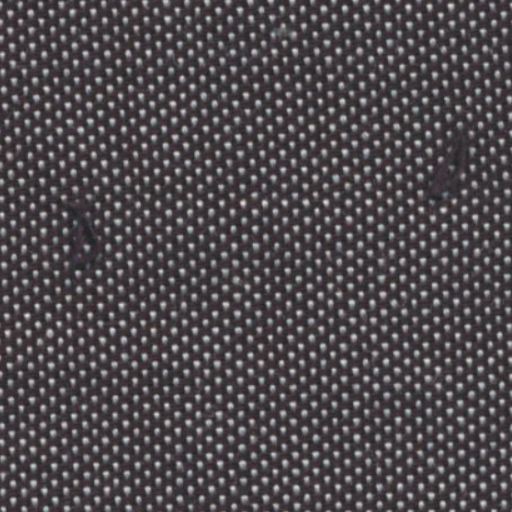DuanSha: (56, 166, 117, 286), (416, 119, 484, 212)
